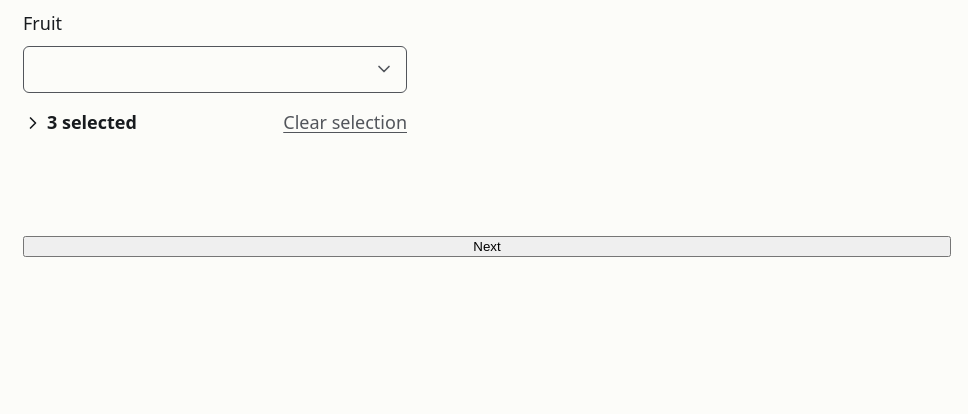
it: selection summary › expands and collapses when the count is pressed
The image size is (968, 414).
What coordinates should you click on to do the following:
click the button "3 selected"
I would click on:
 (80, 123)
Its box is [19,101,141,145].
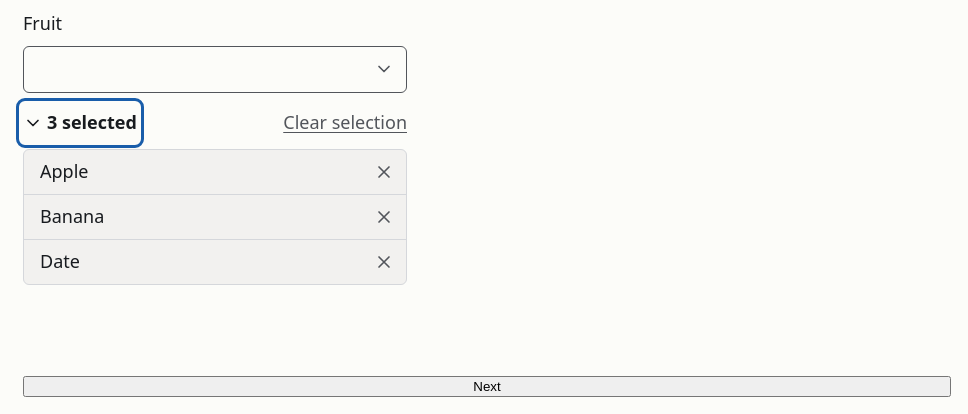
Check: the button "3 selected" is expanded
What coordinates should you click on to do the following:
click the button "3 selected"
I would click on:
 (80, 123)
Its box is [19,101,141,145].
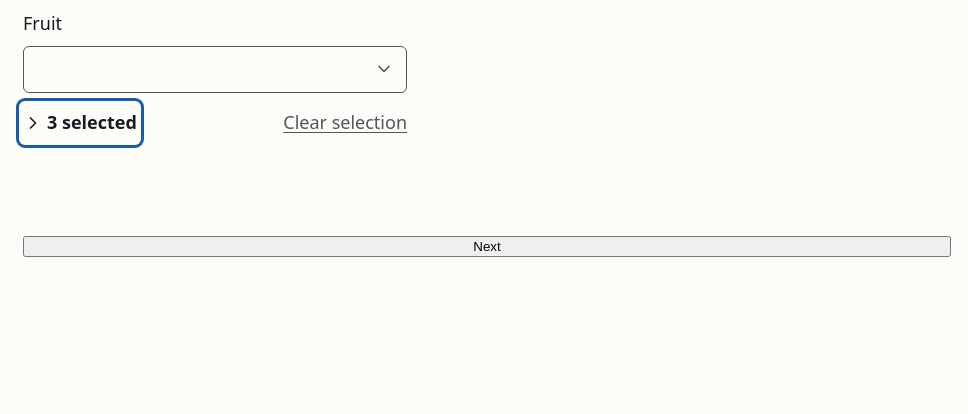
Check: the button "3 selected" is collapsed, box [19,101,141,145]
